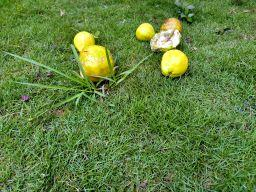guava: (79, 46, 118, 83), (159, 46, 191, 78), (150, 28, 183, 50), (71, 29, 98, 54), (132, 20, 156, 43), (159, 14, 184, 35)
